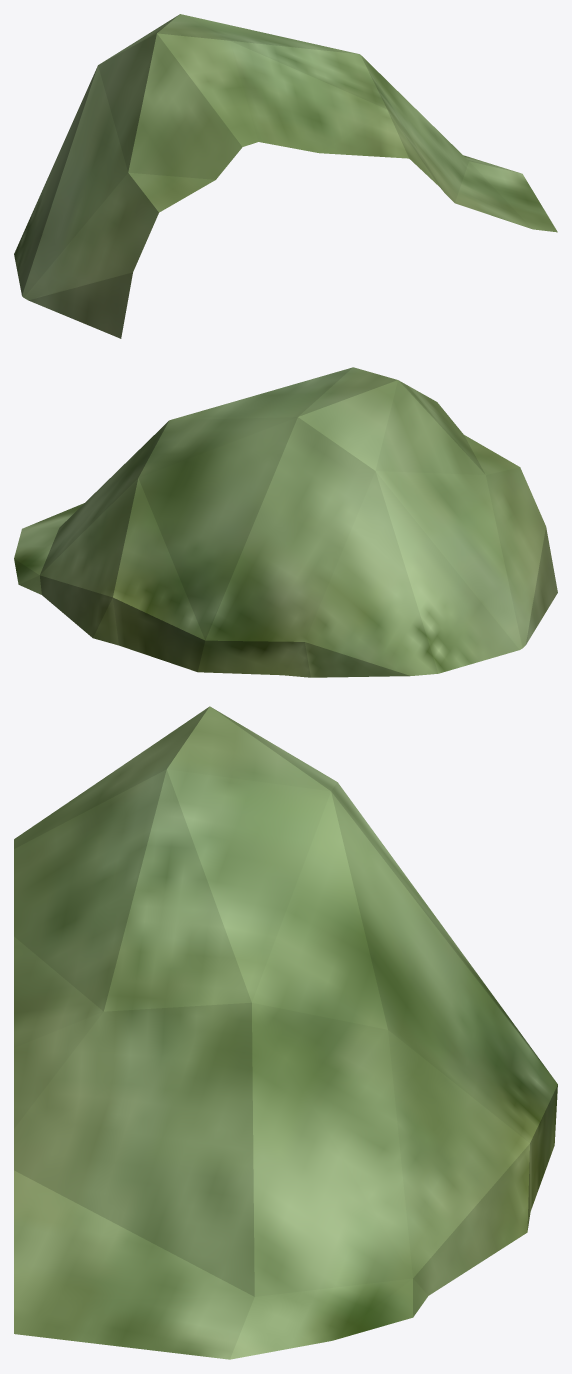
3 renders of one model, top to bottom at view 1: azimuth 30°, elevation 25°; view 2: azimuth 150°, elevation 25°; view 3: azimuth 270°, elevation 25°, orthographic. The views are drawn at different scales.
Bounding box in the file's own units: 0.6319 × 0.2841 × 0.3794.
Materials: 1 (1 with a texture image).
